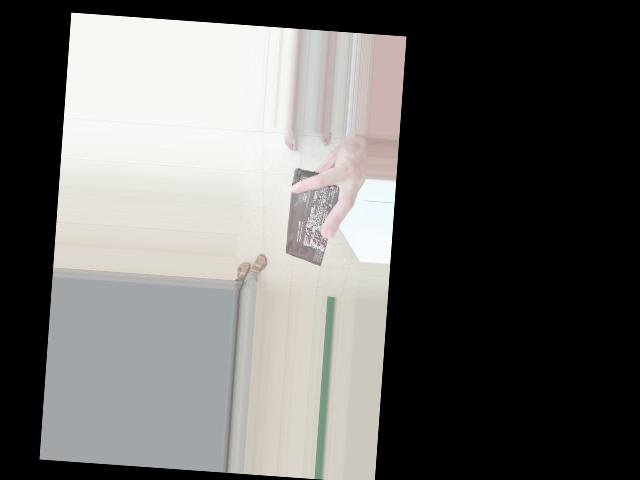chocolate: (282, 159, 350, 273)
